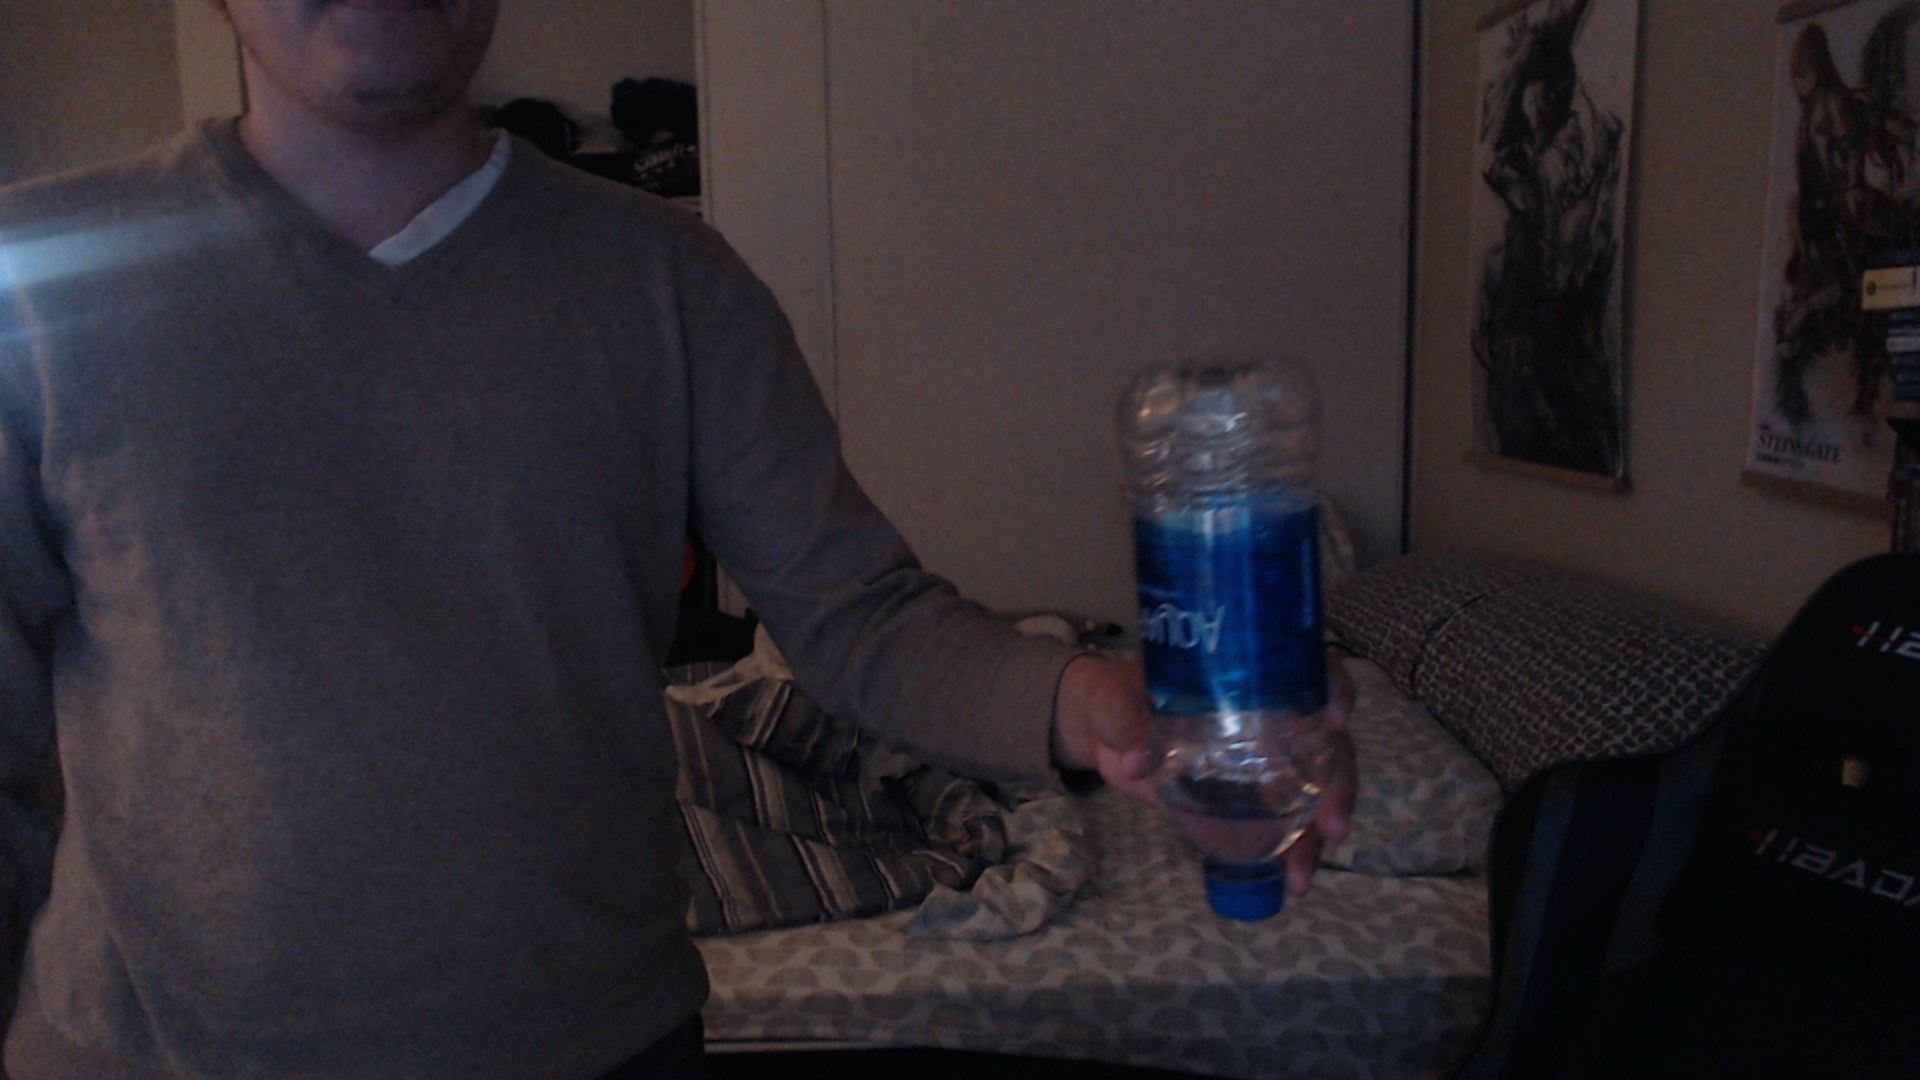bottle: (1114, 349, 1327, 918)
